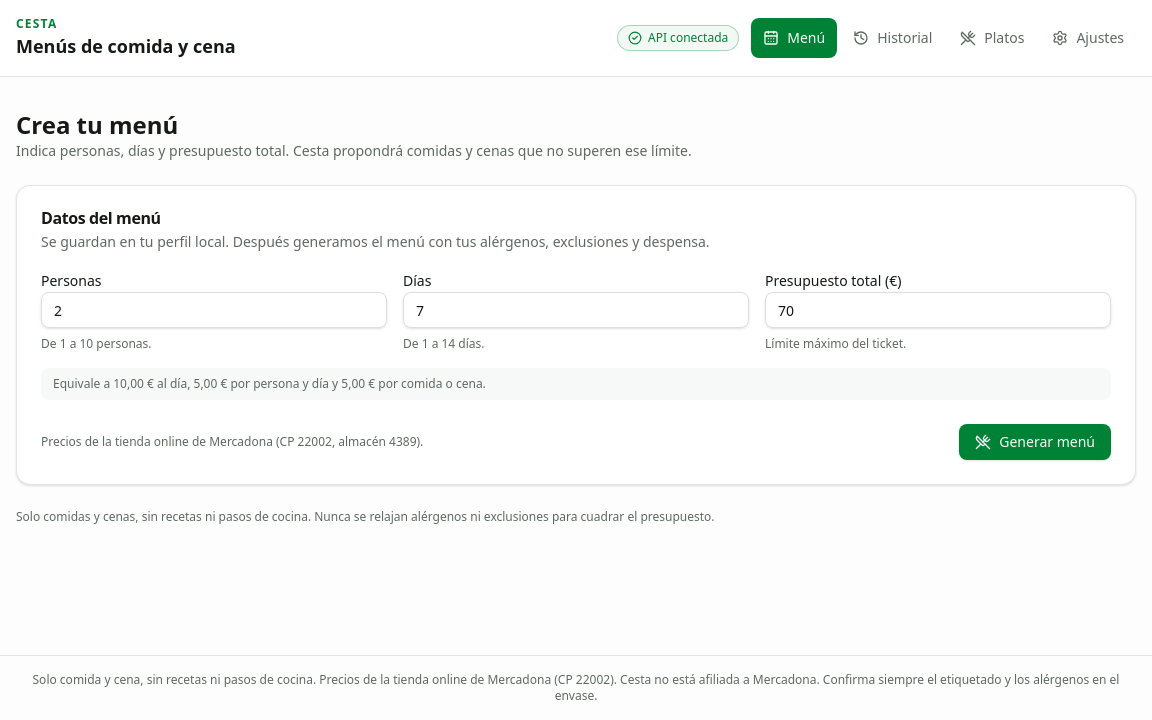
MenuPage › muestra el mínimo, el déficit y las sugerencias si es inviable
The image size is (1152, 720).
Click the button "Generar menú".
click(1035, 442)  # box [959,424,1111,460]
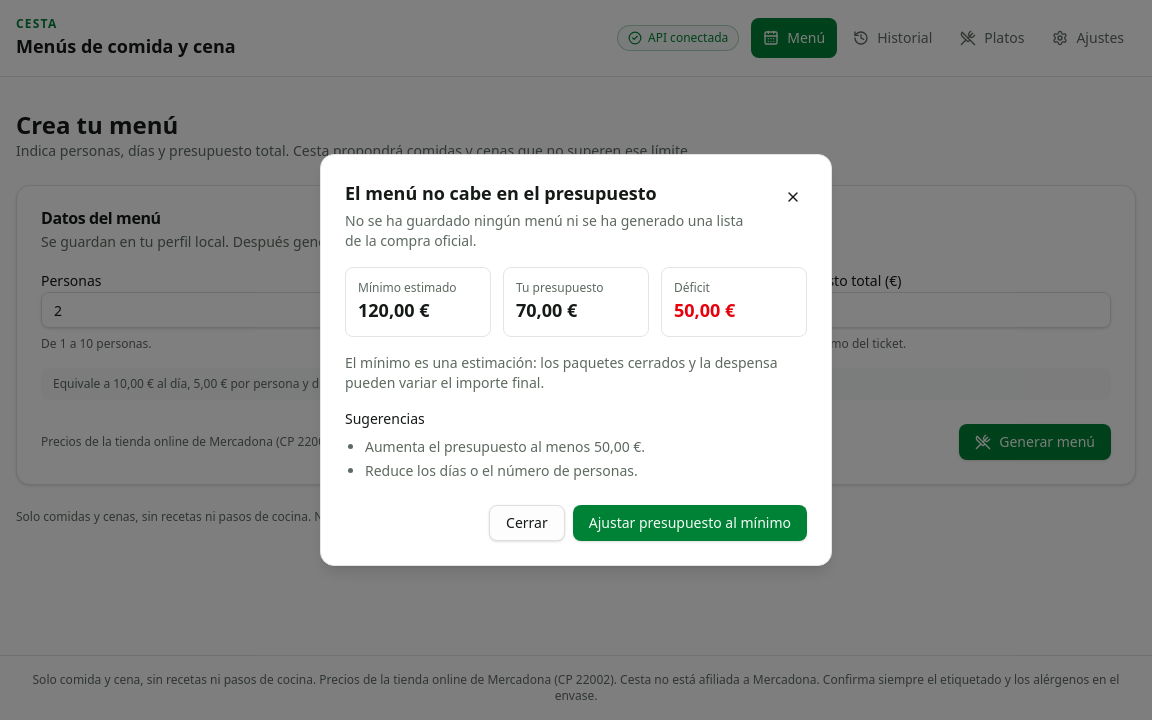
Result: the dialog "El menú no cabe en el presupuesto" shows "Mínimo estimado" at [358,279,457,296]
Result: the dialog "El menú no cabe en el presupuesto" shows "120,00" at [358,298,430,322]
Result: the dialog "El menú no cabe en el presupuesto" shows "Déficit" at [674,279,710,296]
